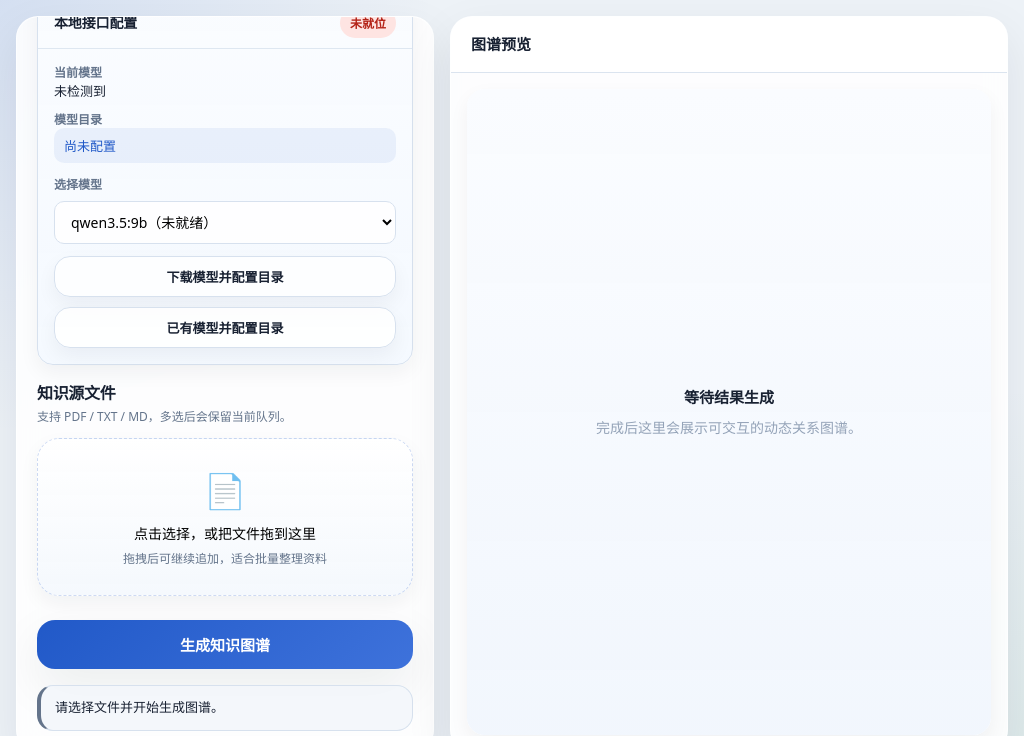
Scenario: App › picks files and renders the file summary
This screenshot has width=1024, height=736.
(page scrolled)
Click the button with class "drop-zone".
click(225, 490)  # box 37,438 -> 413,596
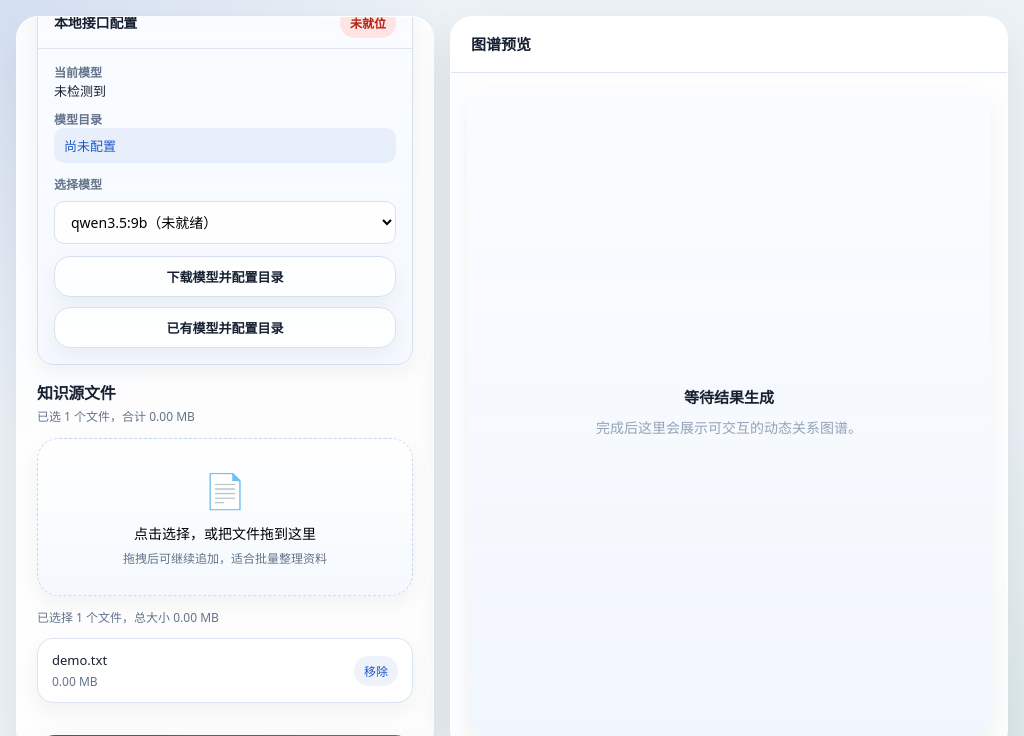
Result: the text "demo.txt" is shown at 52,651 -> 107,669
Result: the text "已选择 1 个文件" is shown at 37,609 -> 219,626
